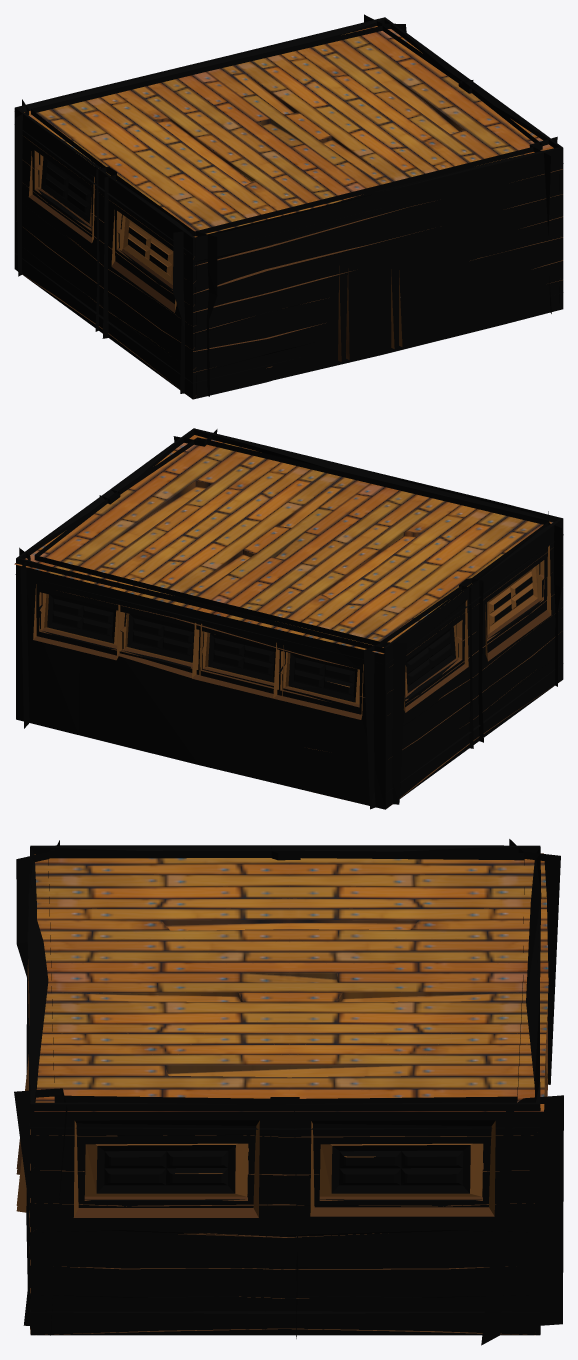
The model's file is captain_room.fbx.
3 renders of one model, top to bottom at view 1: azimuth 30°, elevation 25°; view 2: azimuth 150°, elevation 25°; view 3: azimuth 270°, elevation 25°, orthographic. The views are drawn at different scales.
Visible parts, largest first — view 1: captain room_walls, captain room_roof; view 2: captain room_walls, captain room_roof; view 3: captain room_walls, captain room_roof.
Boxes of the visible parts, left/top/right/bottom form: captain room_walls: left=14, top=14, right=563, bottom=399; captain room_roof: left=24, top=26, right=553, bottom=237; captain room_walls: left=15, top=428, right=563, bottom=809; captain room_roof: left=14, top=435, right=552, bottom=654; captain room_walls: left=14, top=839, right=563, bottom=1345; captain room_roof: left=34, top=853, right=548, bottom=1111.
Size of the model in its own units: 513 by 431 by 200.
